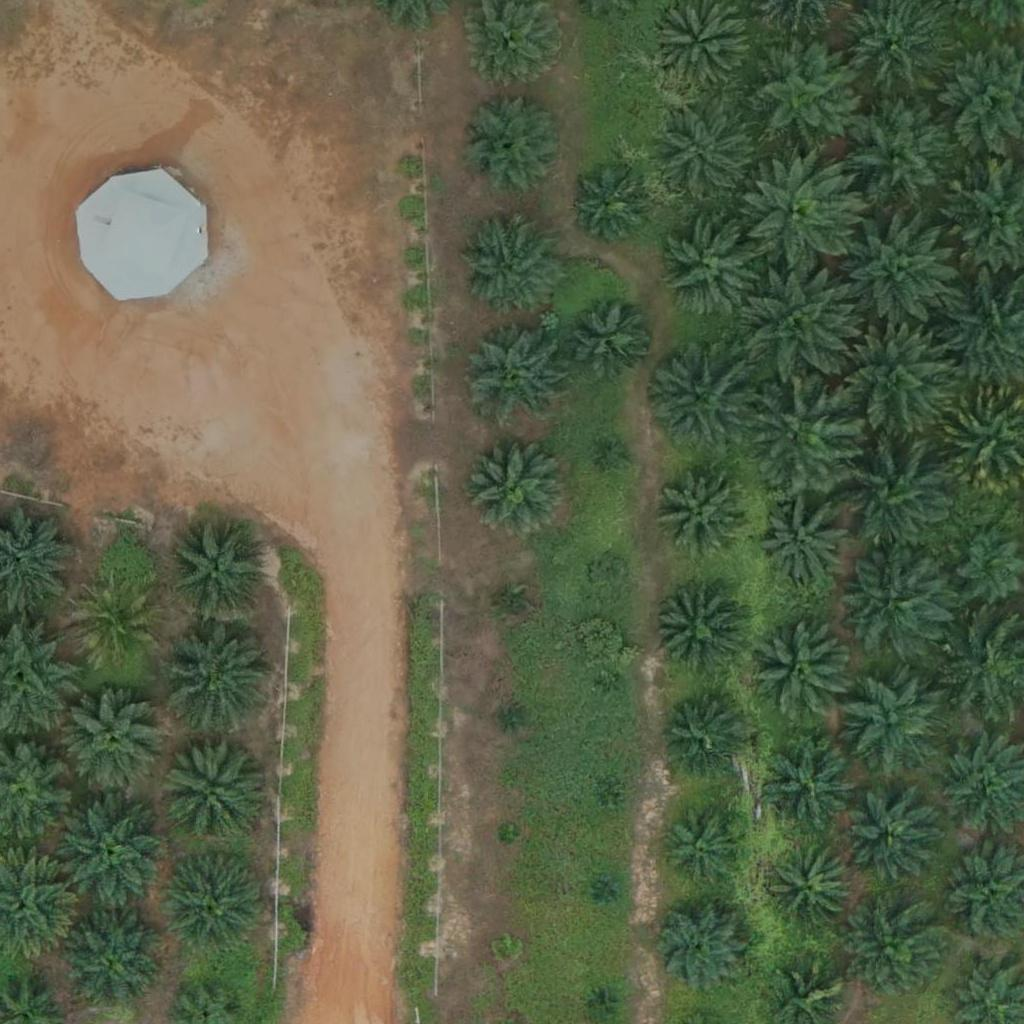Kelapa_Sawit: (644, 342, 757, 456), (844, 101, 957, 214), (55, 794, 168, 907), (744, 270, 856, 384), (838, 440, 950, 554), (842, 543, 954, 657), (747, 376, 859, 490), (744, 39, 856, 152), (743, 160, 855, 273), (846, 212, 958, 325), (835, 327, 947, 440), (644, 891, 756, 1004), (163, 620, 275, 733), (457, 214, 557, 315), (841, 672, 941, 773), (750, 621, 850, 722), (758, 733, 858, 834), (465, 325, 565, 426), (463, 433, 563, 534), (845, 900, 945, 1001), (165, 520, 265, 621), (62, 912, 162, 1013), (462, 95, 562, 195), (660, 107, 760, 207), (662, 220, 762, 320), (160, 740, 260, 840), (165, 854, 265, 954), (66, 693, 166, 793), (662, 802, 750, 891), (659, 694, 747, 782), (768, 846, 856, 934), (71, 583, 159, 671), (848, 798, 935, 886), (760, 499, 847, 587), (660, 466, 747, 554), (653, 588, 740, 676), (566, 295, 653, 383), (573, 167, 648, 243), (591, 558, 629, 596), (604, 443, 629, 468), (600, 673, 625, 698), (594, 789, 619, 814), (500, 593, 525, 618), (500, 706, 525, 731), (496, 824, 521, 849), (492, 936, 517, 961), (595, 878, 620, 903), (588, 988, 613, 1013)
